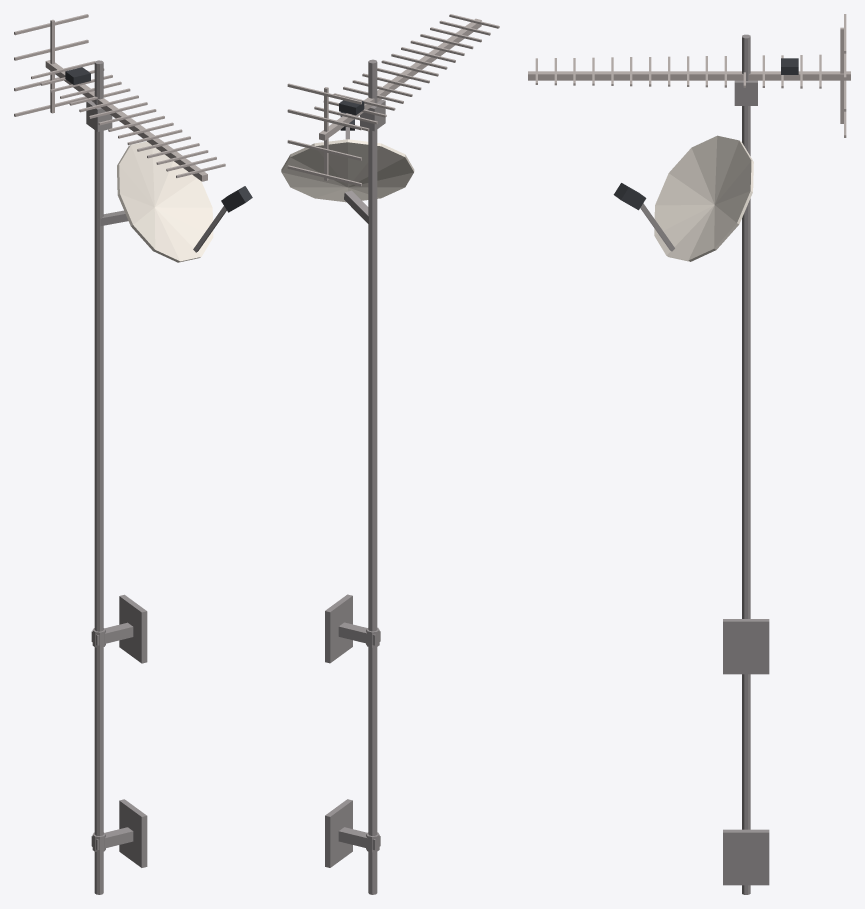
The model's file is SM_Fixture_AntennaYagi_L_01.gltf.
3 views of the same model, side by side, from view 1: azimuth 30°, elevation 25°; view 2: azimuth 150°, elevation 25°; view 3: azimuth 270°, elevation 25° (orthographic). The views are drawn at different scales.
Visible parts, largest first — view 1: SM_Fixture_AntennaYagi_L_01; view 2: SM_Fixture_AntennaYagi_L_01; view 3: SM_Fixture_AntennaYagi_L_01.
Part boxes in pixels (x1,y1,x2,y2): SM_Fixture_AntennaYagi_L_01: [14, 14, 252, 894]; SM_Fixture_AntennaYagi_L_01: [281, 14, 499, 894]; SM_Fixture_AntennaYagi_L_01: [528, 14, 850, 894].
Size of the model in its own units: 0.5508 by 3.28 by 1.11.
Materials: 1 (1 with a texture image).
